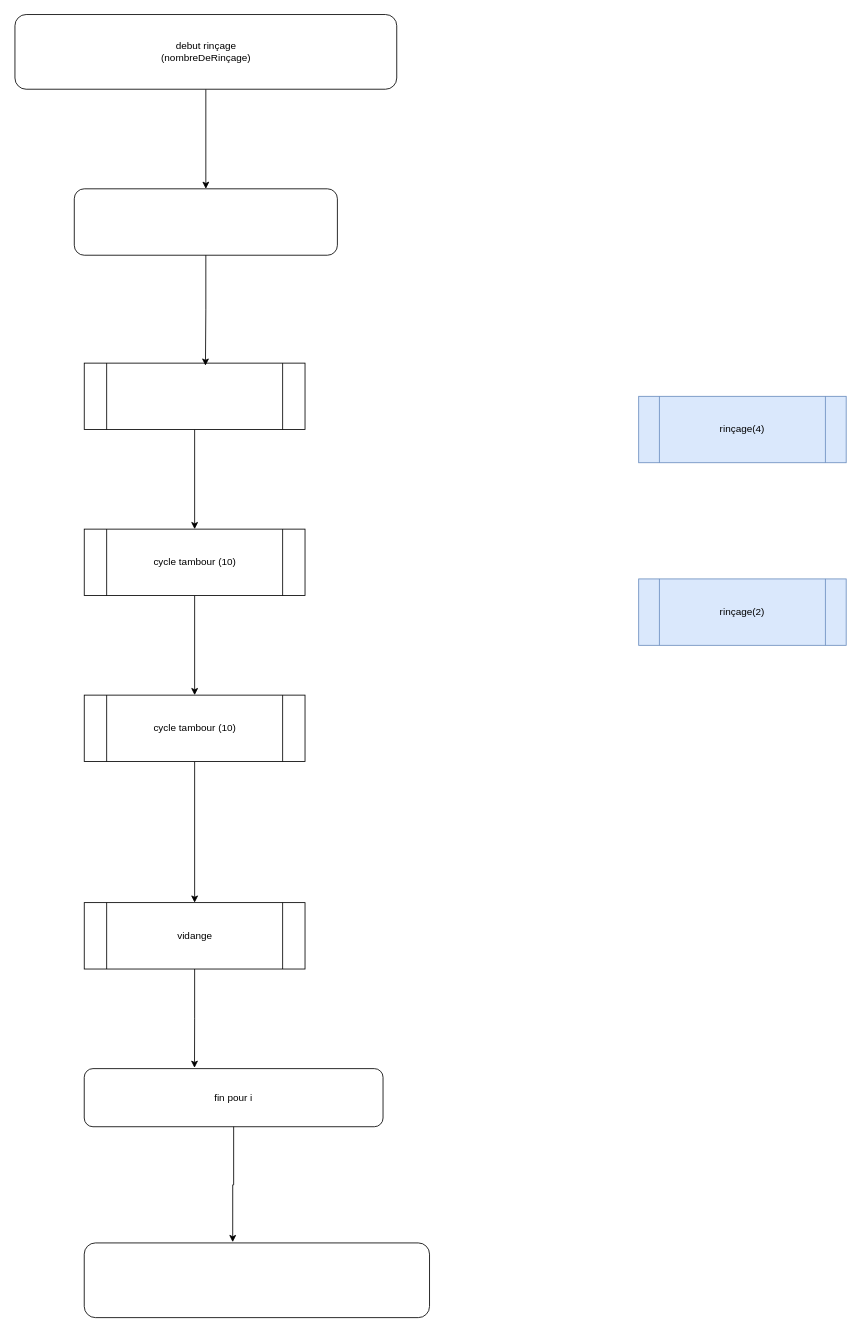
This 861x1332 diagram has some shape labels left out. Each missing label, with the box of its shape:
fin rinçage: (83, 1242, 430, 1318)
pour i de 0 à nombreDeRinçage: (73, 188, 337, 255)
remplissage: (83, 362, 305, 430)
